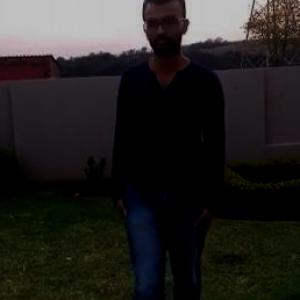follow: (98, 0, 230, 299)
